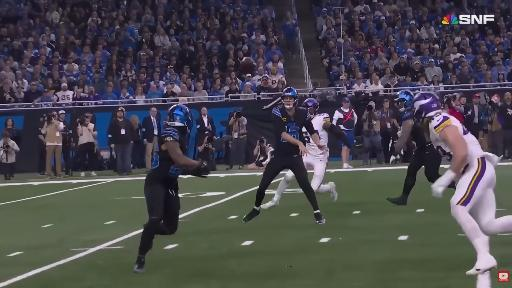Helmet: (413, 92, 441, 120), (165, 104, 192, 133), (282, 87, 298, 108), (396, 90, 414, 108), (303, 99, 319, 114)
Jersey: (430, 113, 484, 163), (272, 106, 314, 155), (401, 110, 429, 150), (158, 128, 186, 153), (312, 114, 330, 146)
Player: (413, 92, 511, 274), (134, 105, 208, 273), (243, 88, 326, 223), (387, 90, 442, 205), (303, 128, 337, 201)
